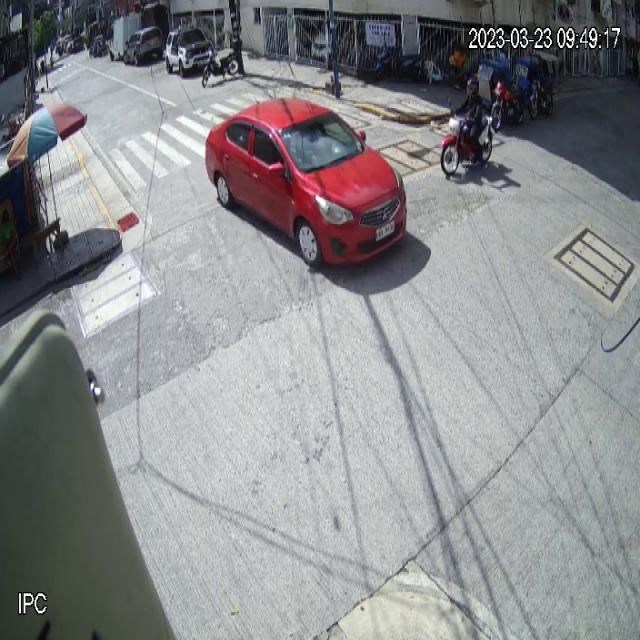Car: (204, 96, 408, 268)
Motorcycle: (438, 94, 498, 179), (202, 38, 243, 88)
